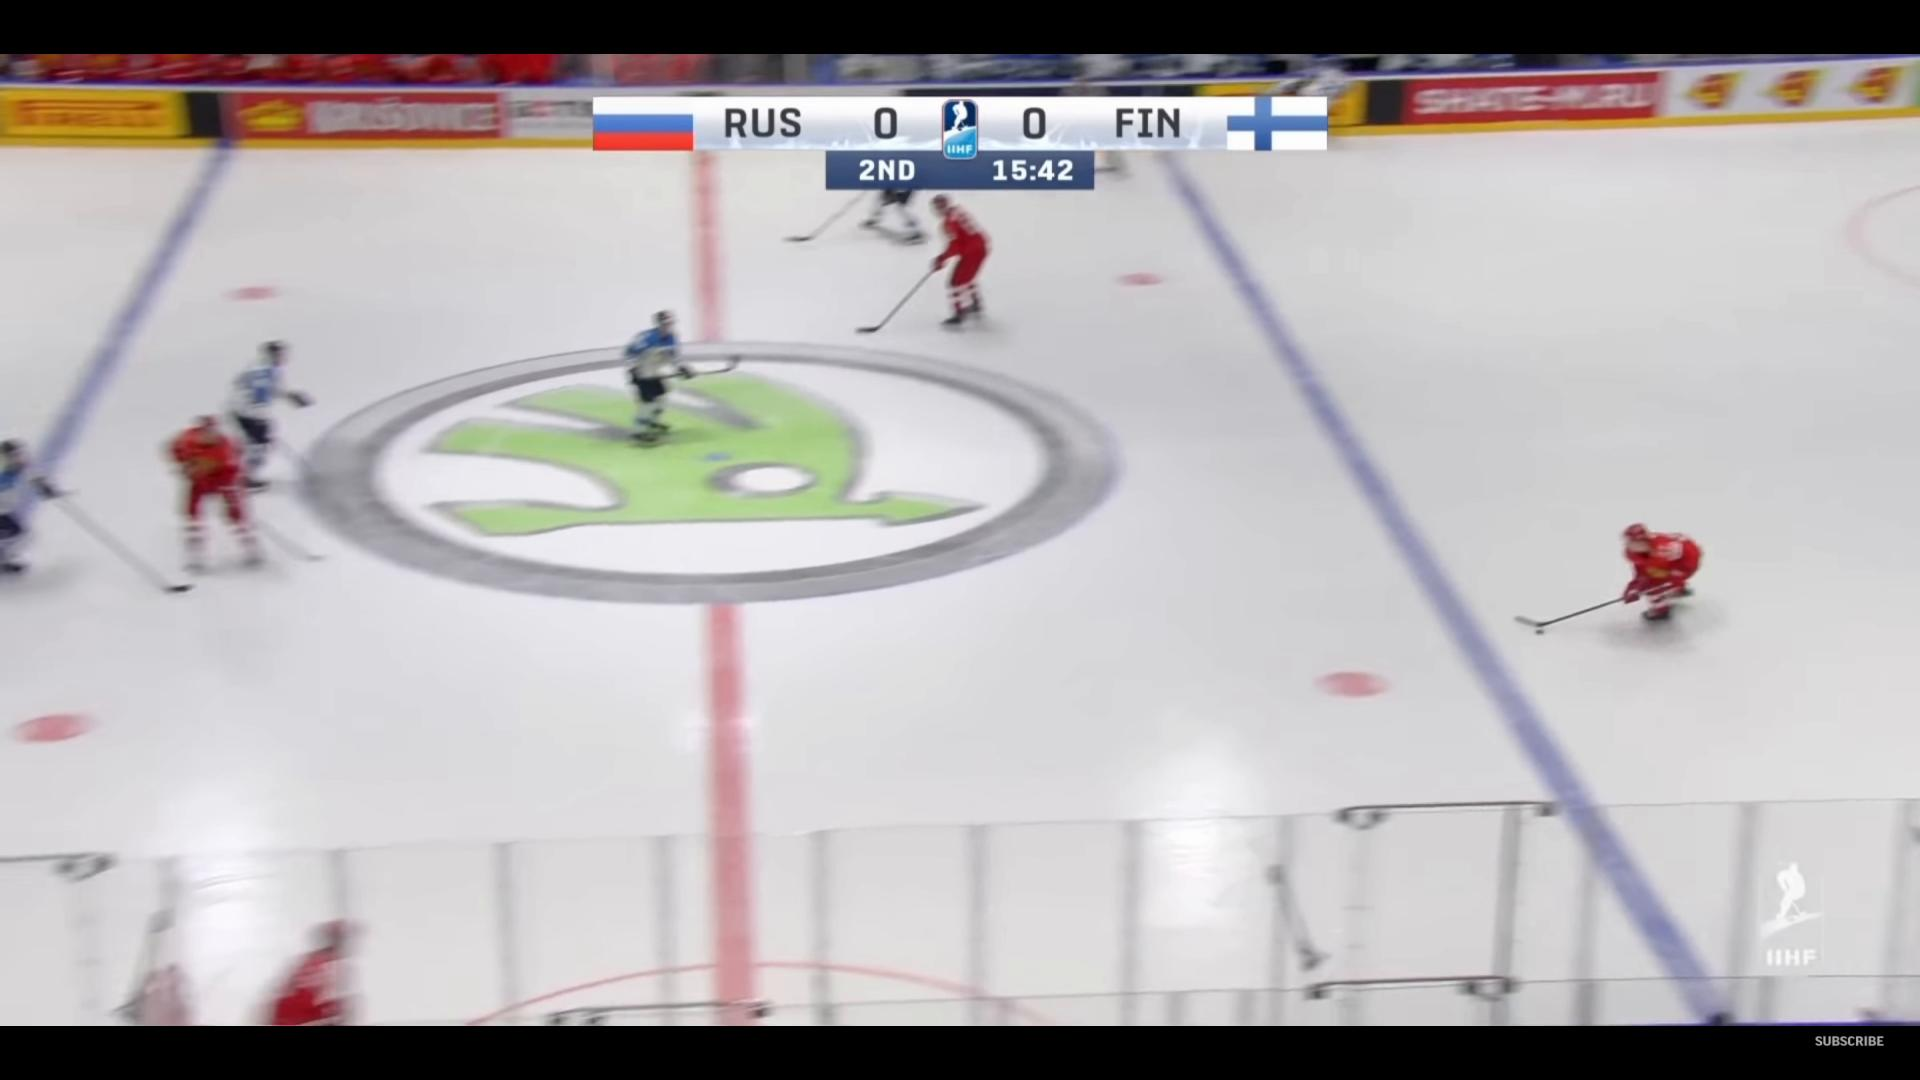puck: (1535, 629, 1544, 633)
